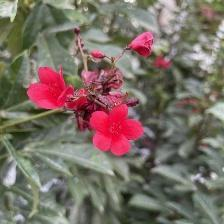jatropha: (89, 101, 147, 158), (26, 65, 76, 114)
